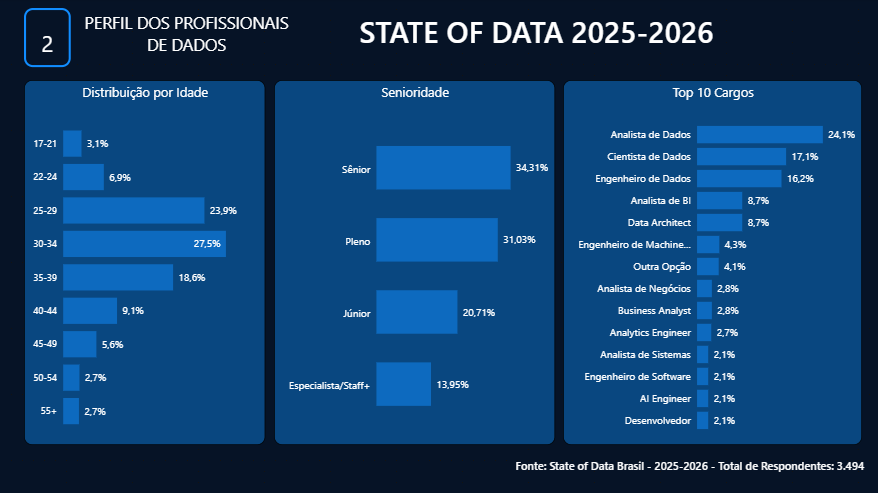

Layout of this report page (visuals, bound fields, positions):
{"tool":"powerbi","page":{"name":"Perfil de Dados","canvas":[1280,720],"ordinal":1},"visuals":[{"type":"clusteredBarChart","title":"Distribuição por Idade ","fields":{"Category":["principal.faixa_idade"],"Y":["CountNonNull(principal.ID)"]},"box":[34.9,119.3,350.5,530.9],"z":0},{"type":"clusteredBarChart","title":"Senioridade","fields":{"Category":["principal.nivel"],"Y":["CountNonNull(principal.ID)"]},"box":[398.5,119.3,408.7,530.9],"z":1000},{"type":"clusteredBarChart","title":"Top 10 Cargos","fields":{"Category":["cargo_atual.cargo_atual"],"Y":["CountNonNull(cargo_atual.ID)"]},"box":[818.9,119.3,434.9,530.9],"z":2000},{"type":"textbox","box":[34.9,14.5,68.4,85.8],"z":3000},{"type":"textbox","box":[446.5,14.5,667.6,104.7],"z":4000},{"type":"textbox","box":[107.6,14.5,327.3,85.8],"z":5000},{"type":"textbox","box":[744.4,665.3,535.6,43.8],"z":6000}]}

Visuals, with their boxes in screenshot pixels (x1, y1, x2, y2), scaled from the page's 1280x720 canvas onto the 878x493 screenshot:
"Distribuição por Idade " clusteredBarChart: x1=24, y1=82, x2=264, y2=445
"Senioridade" clusteredBarChart: x1=273, y1=82, x2=554, y2=445
"Top 10 Cargos" clusteredBarChart: x1=562, y1=82, x2=860, y2=445
textbox: x1=24, y1=10, x2=71, y2=69
textbox: x1=306, y1=10, x2=764, y2=82
textbox: x1=74, y1=10, x2=298, y2=69
textbox: x1=511, y1=456, x2=877, y2=486
